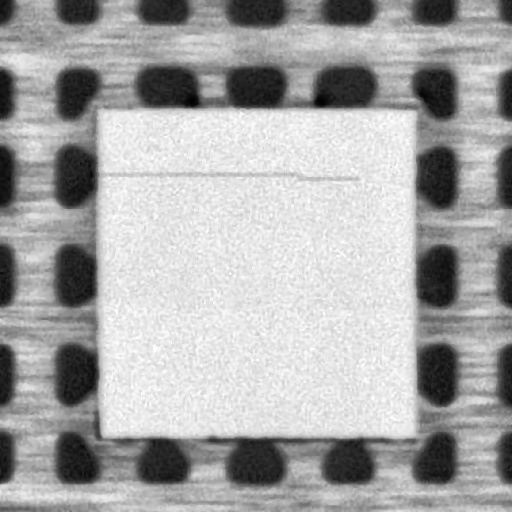DIE_CRACK: (99, 162, 359, 180)
